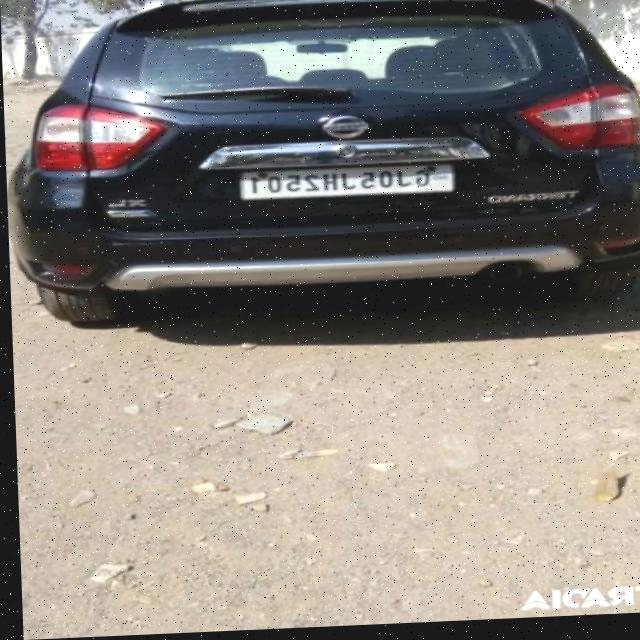plate: (236, 164, 456, 205)
